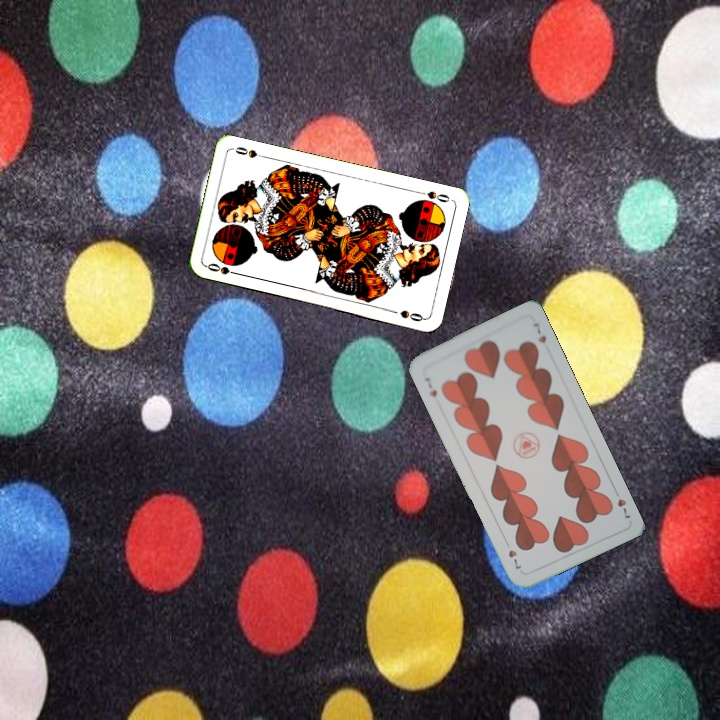H7: (610, 484, 634, 521), (421, 373, 439, 400)
SO: (203, 259, 243, 278), (413, 187, 452, 205)
